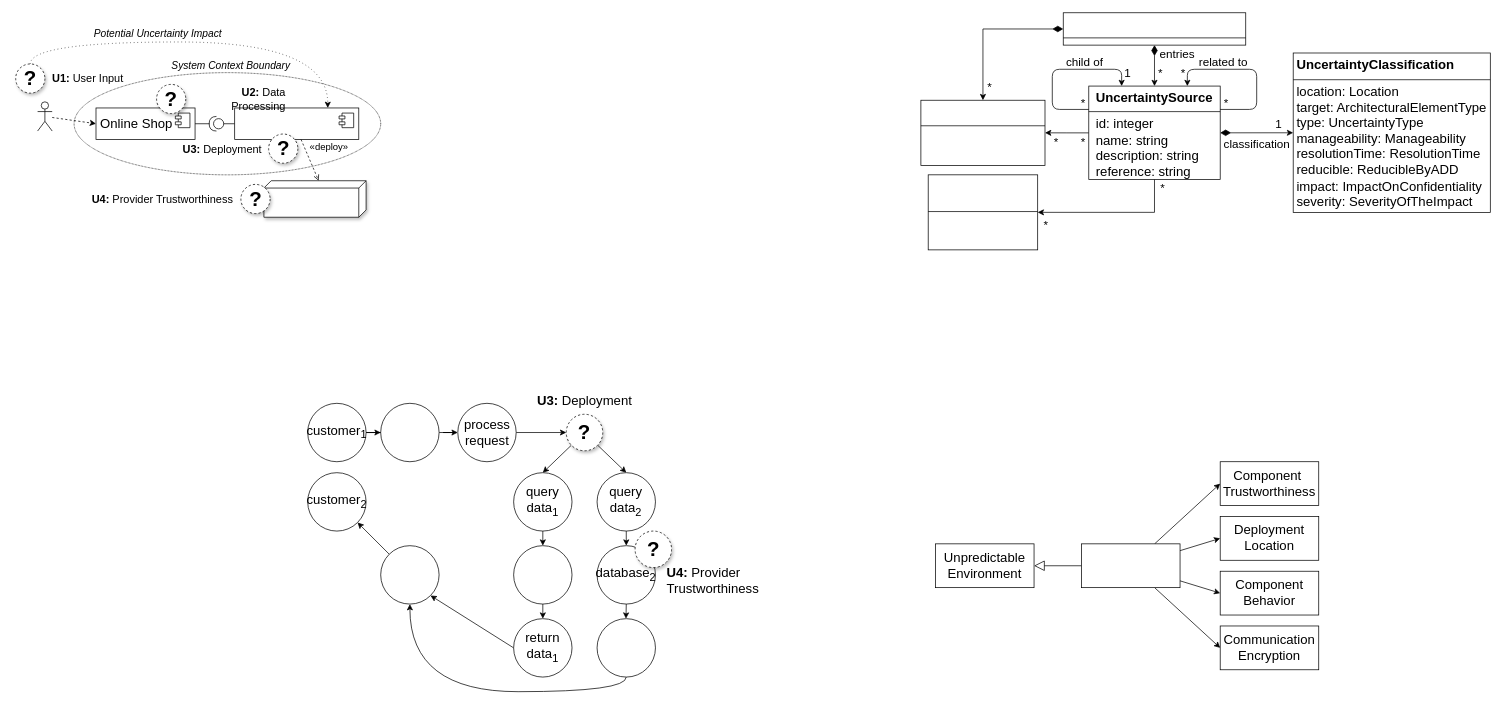
The diagram is 1504 pixels wide and 704 high, and some of its shapes have lost their labels. Each missing label, with the centre of its shape:
"Cloud Service" goes at (x=315, y=199).
"Customer" goes at (x=44, y=116).
"database 1" goes at (x=542, y=574).
"Database Service" goes at (x=296, y=123).
"display items" goes at (x=409, y=574).
"Example description: string visualization: Image" goes at (x=982, y=132).
"input search details" goes at (x=409, y=432).
"Provider Trustworthiness" goes at (x=1130, y=565).
"return data 2" goes at (x=625, y=647).
"UncertaintySourceCatalog" goes at (x=1154, y=28).
"« enumeration » Keyword Trust, Database, AccessControl, ..." goes at (x=982, y=212).
